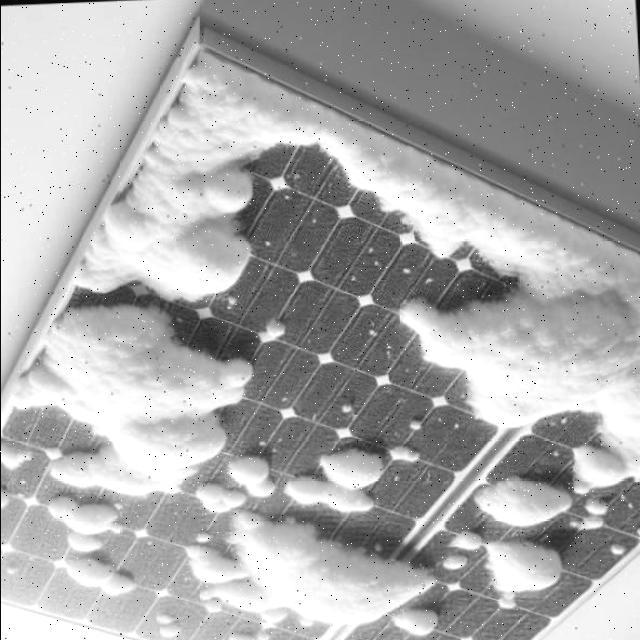Anomaly Solar Panel: (0, 41, 640, 640)
Snow: (69, 34, 640, 520), (0, 263, 269, 544), (180, 508, 441, 638), (281, 428, 390, 523), (40, 466, 134, 562), (471, 476, 573, 531), (483, 541, 564, 610), (54, 547, 140, 604), (224, 444, 285, 506), (430, 521, 490, 579), (568, 491, 617, 544), (190, 476, 249, 519), (387, 600, 440, 640), (0, 432, 36, 478), (261, 313, 294, 346), (155, 610, 183, 638), (227, 628, 271, 640), (389, 445, 420, 461), (607, 538, 629, 560), (0, 489, 12, 514), (406, 417, 424, 433), (635, 524, 640, 539)
